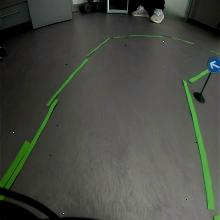left: (207, 55, 220, 74)
